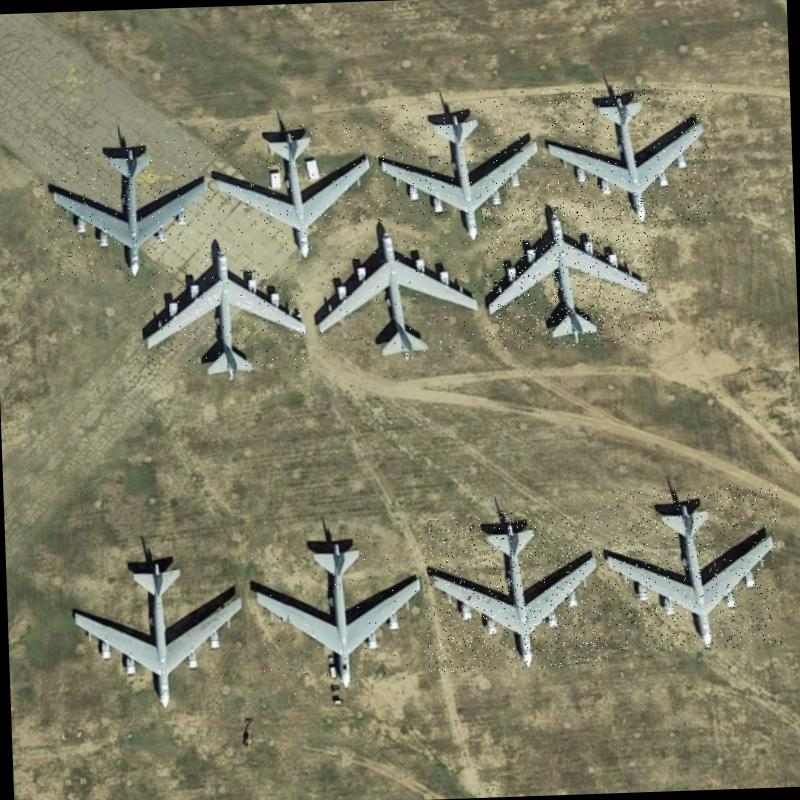A8: (64, 544, 253, 714), (595, 483, 784, 653), (422, 508, 607, 672), (250, 526, 426, 698), (481, 195, 662, 350), (541, 82, 718, 229), (38, 138, 213, 284), (205, 118, 375, 266), (310, 220, 484, 363), (373, 98, 542, 244), (135, 240, 310, 378)
